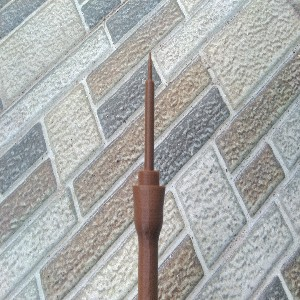solder: (131, 48, 166, 300)
